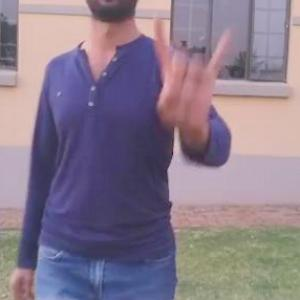takeoff-hand: (141, 15, 239, 132)
